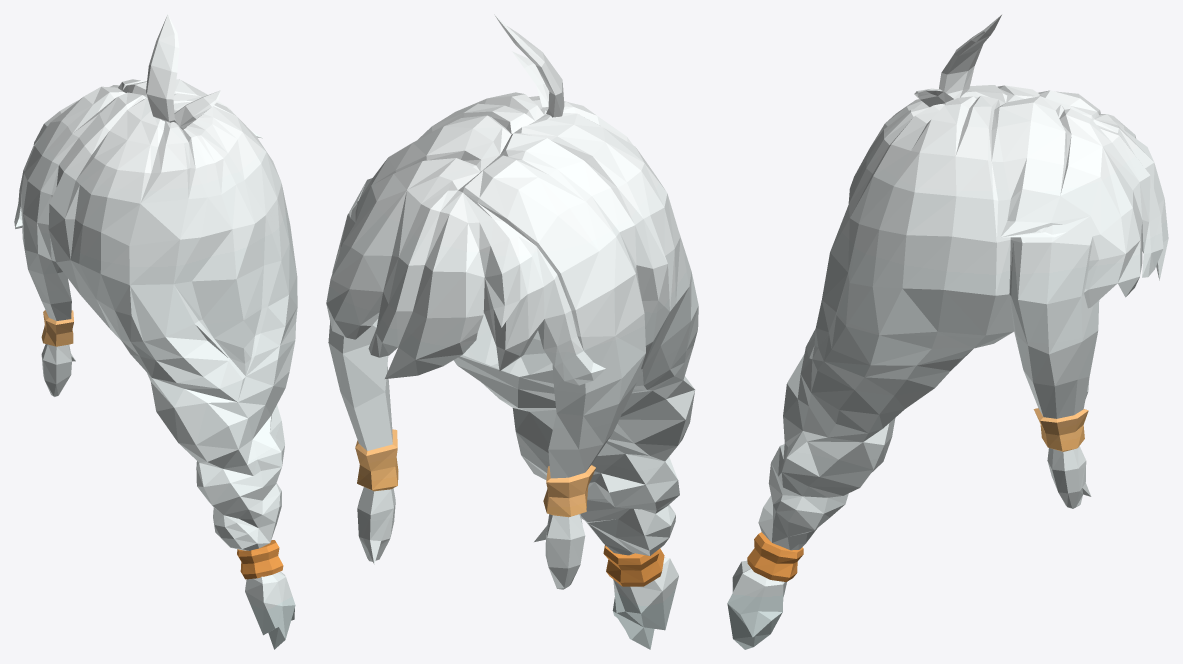
Rendered from CharSkyKid_Hair_AP07Braid_01.glb.
The picture shows the model from 3 angles, left to right: view 1: azimuth 30°, elevation 25°; view 2: azimuth 150°, elevation 25°; view 3: azimuth 270°, elevation 25°; orthographic projection. The views are drawn at different scales.
Parts seen in each view (by area): view 1: CharSkyKid_Hair_AP07Braid_01; view 2: CharSkyKid_Hair_AP07Braid_01; view 3: CharSkyKid_Hair_AP07Braid_01.
Part boxes in pixels (bbox=[...]): CharSkyKid_Hair_AP07Braid_01: bbox=[14, 14, 297, 649]; CharSkyKid_Hair_AP07Braid_01: bbox=[326, 14, 698, 649]; CharSkyKid_Hair_AP07Braid_01: bbox=[727, 15, 1168, 649].
Bounding box in the file's own units: 3.05 × 7.26 × 4.54.
Materials: 1 (1 with a texture image).
